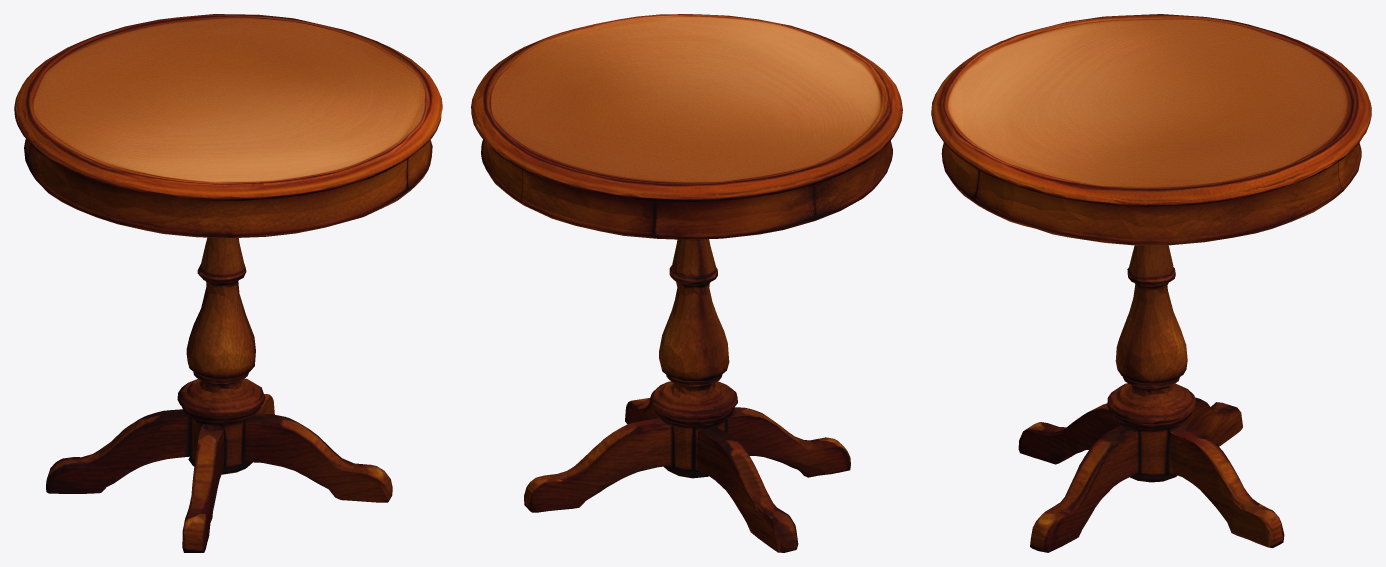
File: roundtable-hy3d.glb
The picture shows the model from 3 angles, left to right: view 1: azimuth 30°, elevation 25°; view 2: azimuth 150°, elevation 25°; view 3: azimuth 270°, elevation 25°; orthographic projection. The views are drawn at different scales.
Visible parts, largest first — view 1: temp_mesh.ply; view 2: temp_mesh.ply; view 3: temp_mesh.ply.
Boxes of the visible parts, x1,y1,x2,y2 form: temp_mesh.ply: [14, 14, 442, 552]; temp_mesh.ply: [471, 14, 902, 552]; temp_mesh.ply: [931, 14, 1371, 552].
Bounding box in the file's own units: 2 × 1.98 × 1.99.
1 material, 1 textured.
